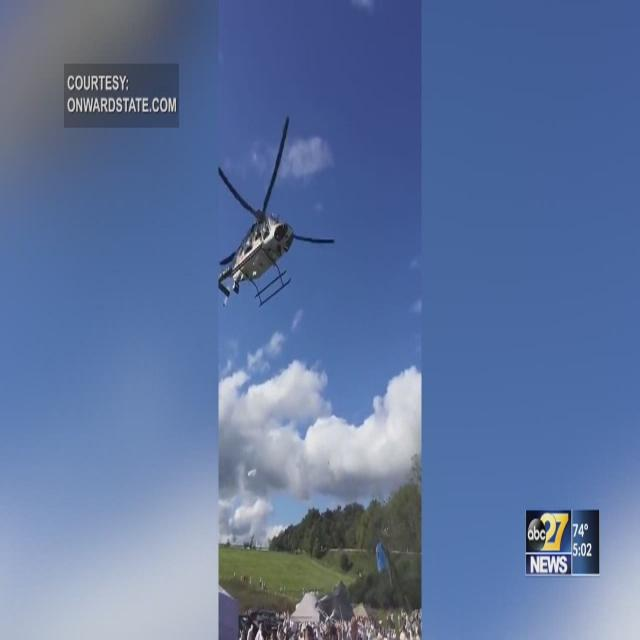helicopter: (207, 117, 339, 312)
